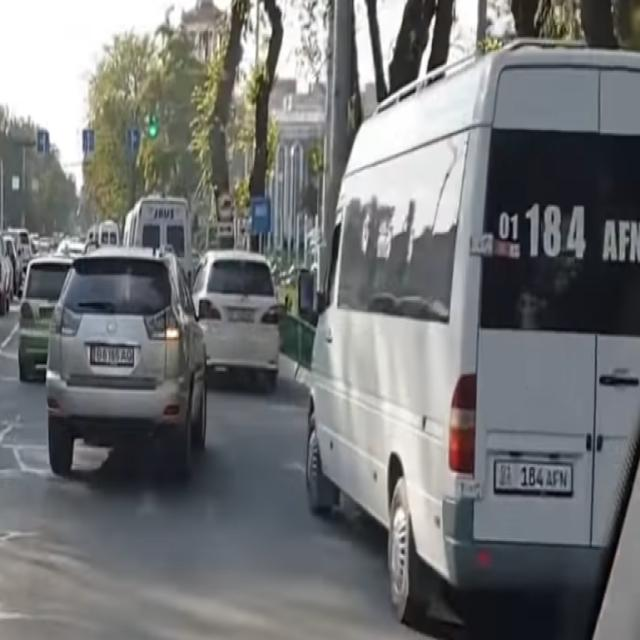non emergency car: (311, 44, 640, 626), (50, 253, 207, 487), (190, 256, 280, 390), (20, 252, 79, 385), (123, 193, 191, 255)
